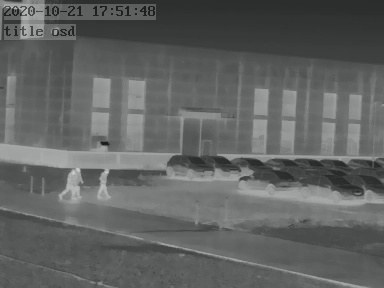person: (60, 165, 84, 200), (98, 167, 111, 199)
vehicle: (238, 169, 303, 191), (305, 173, 357, 200), (165, 152, 213, 179), (205, 153, 243, 177), (349, 173, 382, 200), (232, 154, 270, 171), (262, 155, 296, 170), (347, 156, 380, 170), (317, 156, 348, 170), (295, 155, 325, 169)
